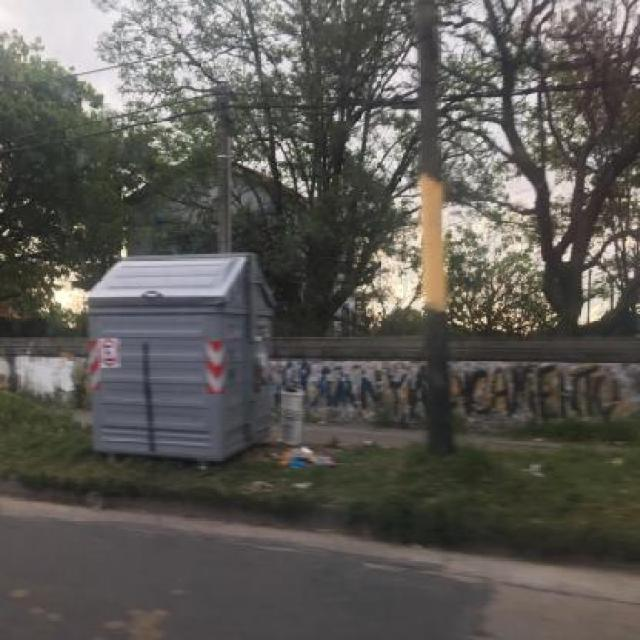garbage: (245, 328, 332, 512)
